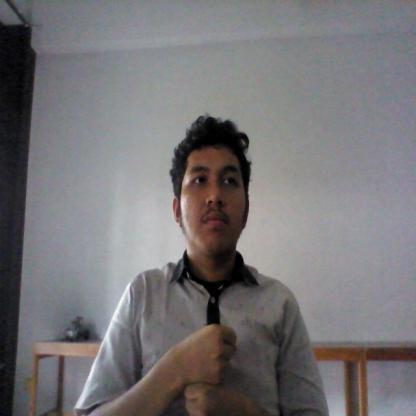G: (160, 319, 250, 416)
